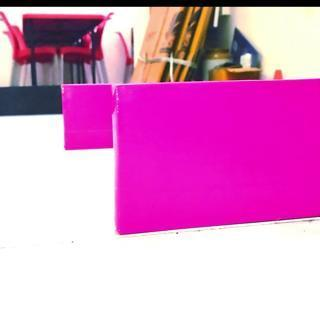xparking: (113, 80, 320, 234), (60, 81, 111, 151)
